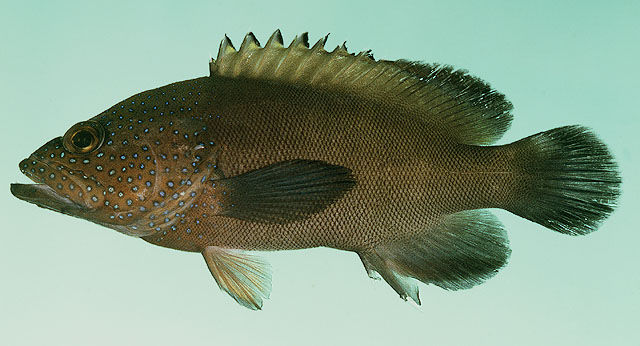fish: (10, 30, 621, 312)
